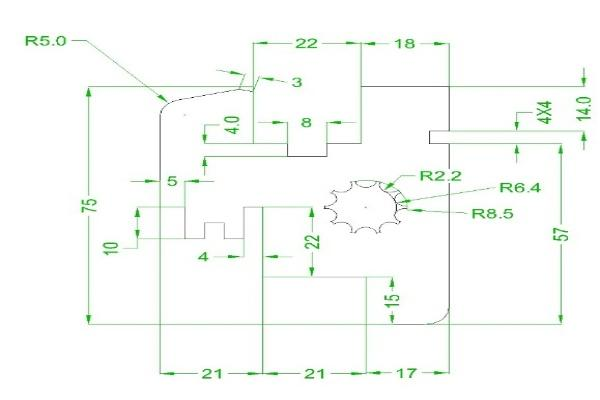dimensions: (524, 91, 560, 128), (419, 164, 466, 187), (286, 29, 326, 56), (494, 178, 552, 196), (468, 204, 522, 223), (15, 32, 70, 50), (94, 234, 124, 264), (570, 91, 595, 126), (301, 360, 332, 386), (389, 29, 420, 54), (69, 193, 104, 215), (544, 223, 576, 245), (219, 108, 244, 136), (381, 289, 406, 316), (394, 360, 422, 384), (156, 169, 184, 192), (196, 365, 229, 383), (302, 228, 325, 252), (194, 248, 214, 266), (297, 114, 315, 132), (288, 74, 307, 91)
